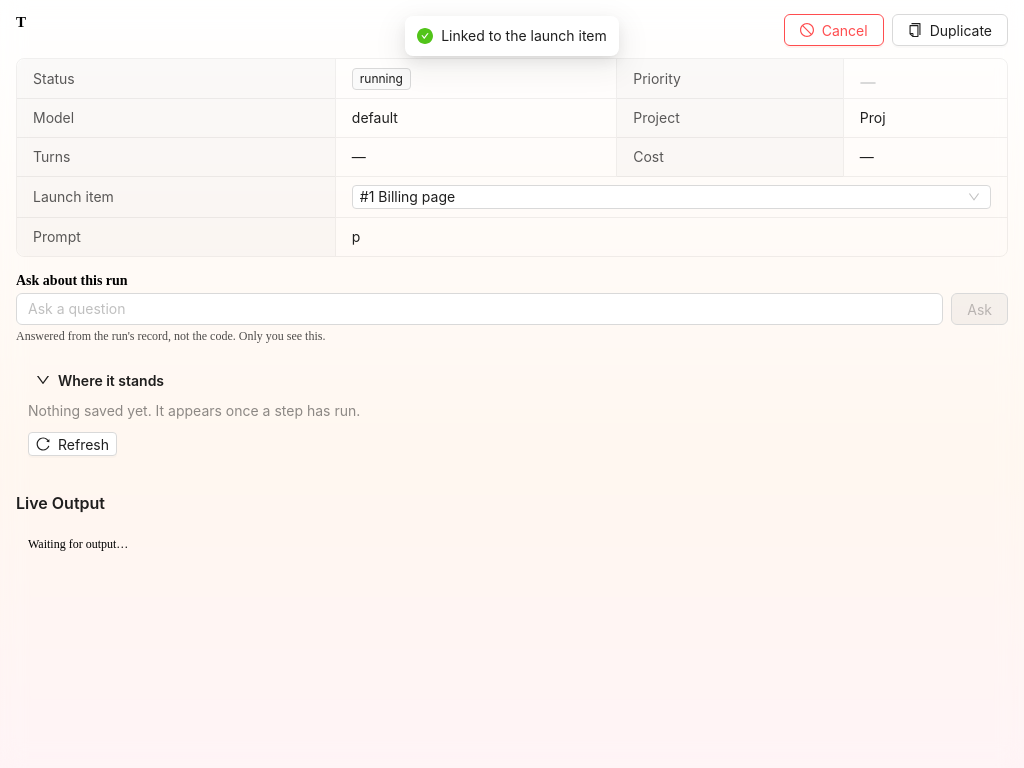
Scenario: TaskDetail: launch item and risk › None unlinks; a refusal shows the server reason
Press the mouse on the element showing "#1 Billing page" at (671, 197), box [352,185,991,209]
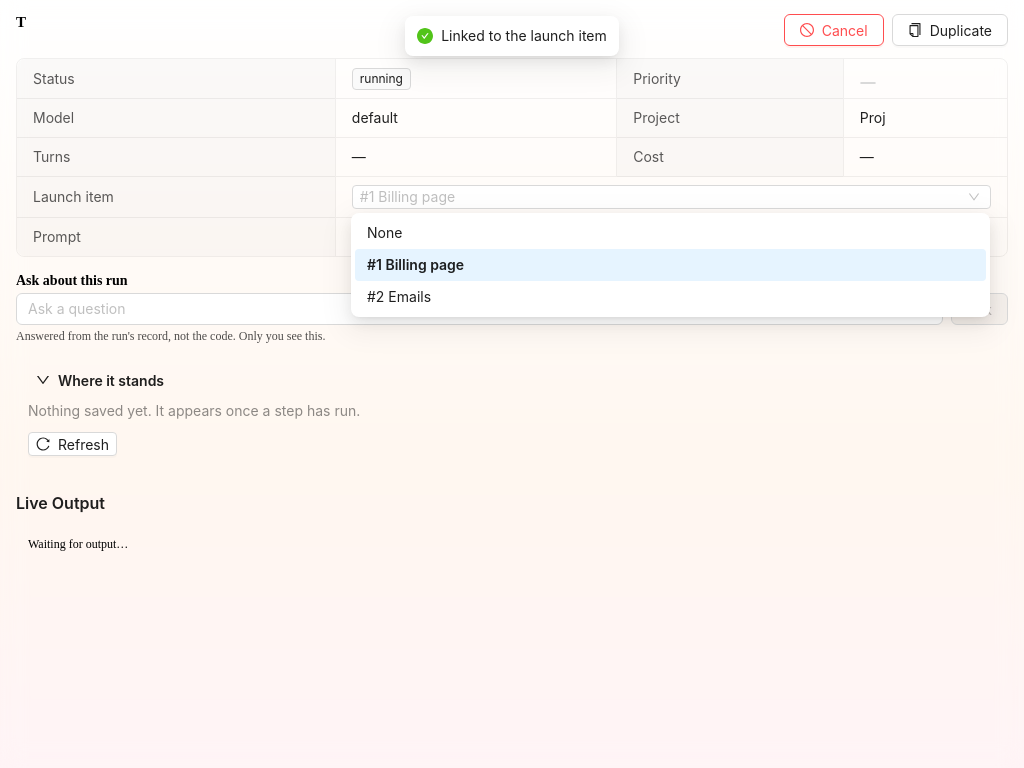
Click the element showing "None". click: (385, 232)
box: [367,224,402,241]
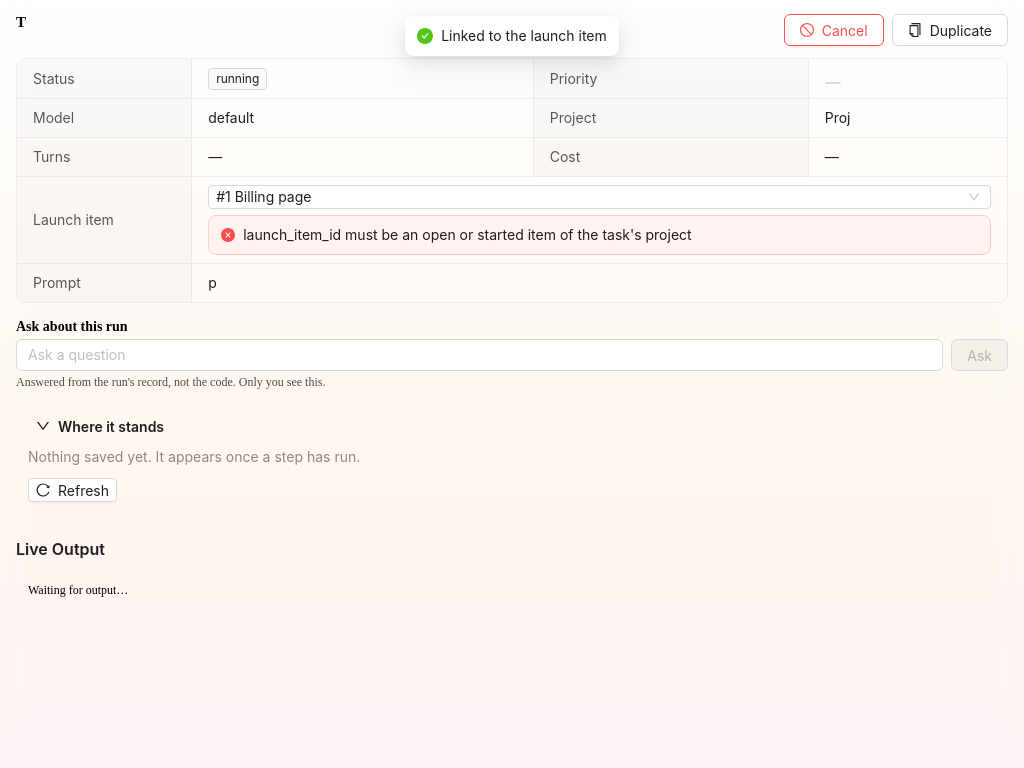
Expected: the message with test id "task-launch-item-error" shows "must be an open or started item", [243,226,692,243]
